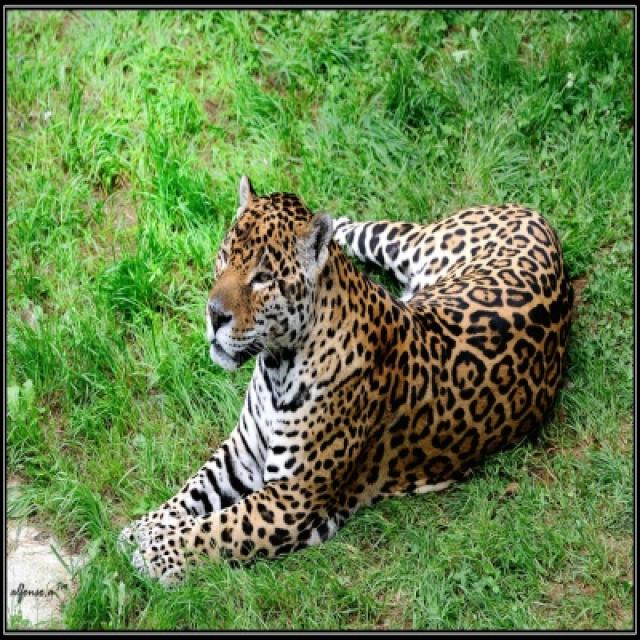Jaguar: (120, 178, 586, 587)
